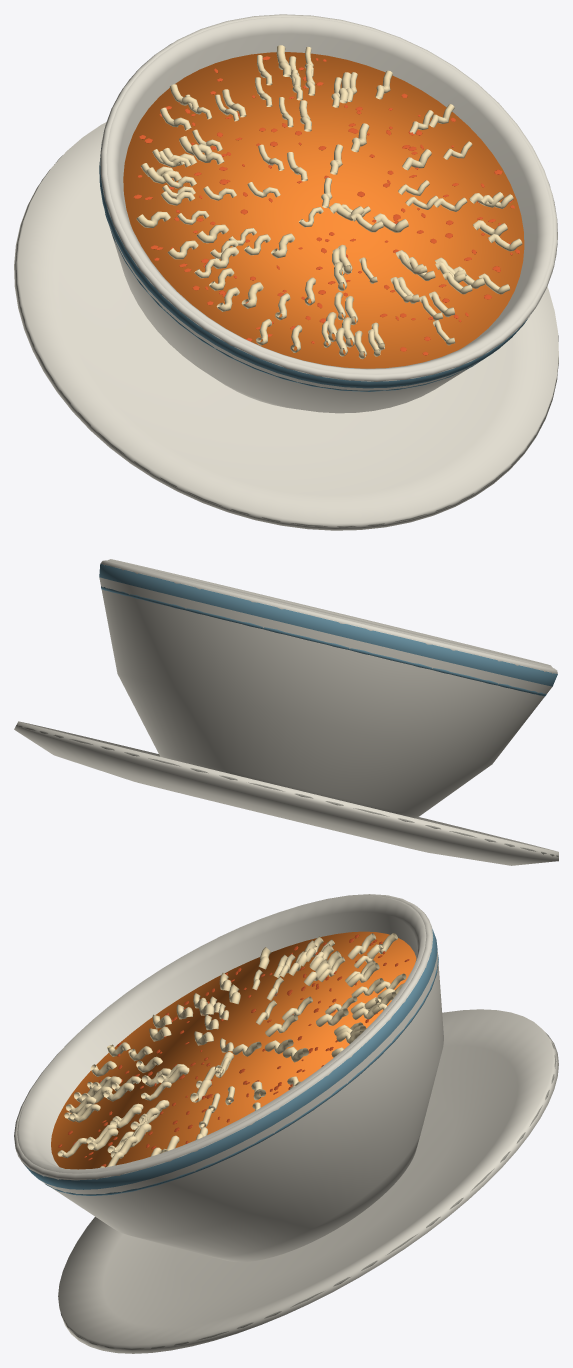
The model's file is tripe_soup-default.glb.
3 renders of one model, top to bottom at view 1: azimuth 30°, elevation 25°; view 2: azimuth 150°, elevation 25°; view 3: azimuth 270°, elevation 25°, orthographic.
Parts seen in each view (by area): view 1: tripe_soup-default__Cream_glazed_ceramic, Opaque golden soup broth, Ceramic soup bowl, tripe_soup-default__Cream_cooked_tripe, tripe_soup-default__Paprika_oil_dots, Saucer rim, Blue ceramic bowl band; view 2: Ceramic soup bowl, tripe_soup-default__Cream_glazed_ceramic, Blue ceramic bowl band, Saucer rim; view 3: Ceramic soup bowl, tripe_soup-default__Cream_glazed_ceramic, Opaque golden soup broth, tripe_soup-default__Cream_cooked_tripe, tripe_soup-default__Paprika_oil_dots, Blue ceramic bowl band, Saucer rim.
Part boxes in pixels (x1=…): tripe_soup-default__Cream_glazed_ceramic: x1=14, y1=14, x2=558, y2=530; Opaque golden soup broth: x1=123, y1=52, x2=524, y2=368; Ceramic soup bowl: x1=99, y1=17, x2=557, y2=413; tripe_soup-default__Cream_cooked_tripe: x1=136, y1=45, x2=522, y2=359; tripe_soup-default__Paprika_oil_dots: x1=133, y1=56, x2=519, y2=355; Saucer rim: x1=16, y1=155, x2=558, y2=527; Blue ceramic bowl band: x1=105, y1=212, x2=492, y2=391; Ceramic soup bowl: x1=99, y1=559, x2=557, y2=818; tripe_soup-default__Cream_glazed_ceramic: x1=14, y1=560, x2=558, y2=865; Blue ceramic bowl band: x1=101, y1=586, x2=546, y2=696; Saucer rim: x1=16, y1=724, x2=558, y2=856; Ceramic soup bowl: x1=14, y1=896, x2=443, y2=1262; tripe_soup-default__Cream_glazed_ceramic: x1=14, y1=894, x2=558, y2=1353; Opaque golden soup broth: x1=51, y1=931, x2=416, y2=1169; tripe_soup-default__Cream_cooked_tripe: x1=57, y1=933, x2=406, y2=1167; tripe_soup-default__Paprika_oil_dots: x1=58, y1=934, x2=409, y2=1166; Blue ceramic bowl band: x1=45, y1=955, x2=438, y2=1195; Saucer rim: x1=60, y1=1032, x2=556, y2=1349.
Bounding box in the file's own units: 0.25 × 0.1805 × 0.2413.
